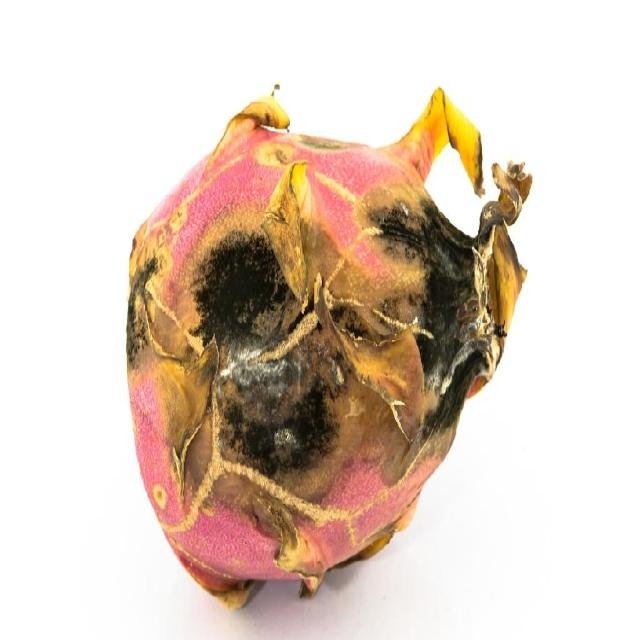Wet Waste: (126, 86, 534, 611)
